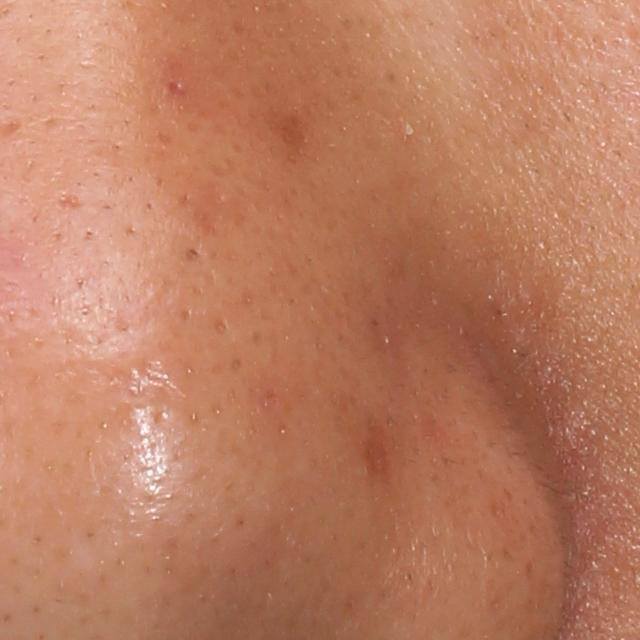atrophic_scar: (91, 356, 185, 402), (56, 191, 83, 212)
